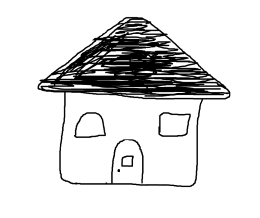door: (107, 134, 148, 190)
open_window: (153, 109, 191, 139), (71, 110, 106, 141)
shaded_roof: (37, 12, 232, 99)
wall: (54, 92, 207, 189)
